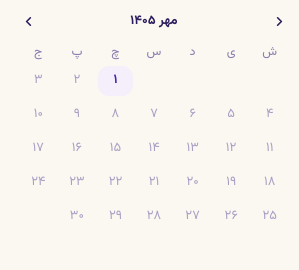
Test: JalaliCalendar › moves a month at a time, backward and forward
Expected: the text "مهر ۱۴۰۵" is shown, [130, 12, 178, 32]
Click the button named "ماه قبل". click: (280, 22)
box: [272, 14, 287, 29]
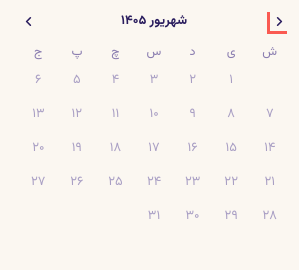
Expected: the text "شهریور ۱۴۰۵" is shown, [121, 12, 187, 32]
Click the button named "ماه بعد". click: (28, 22)
box: [21, 14, 36, 29]
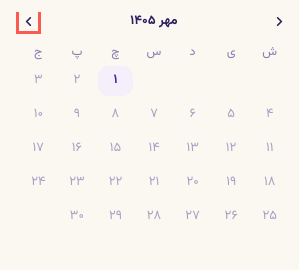
Click the button named "ماه بعد". click: (28, 22)
box: [21, 14, 36, 29]
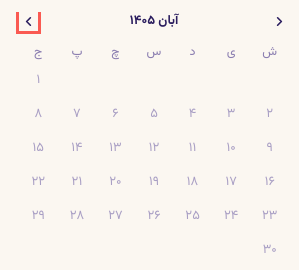
Expected: the text "آبان ۱۴۰۵" is shown, [130, 12, 178, 32]
